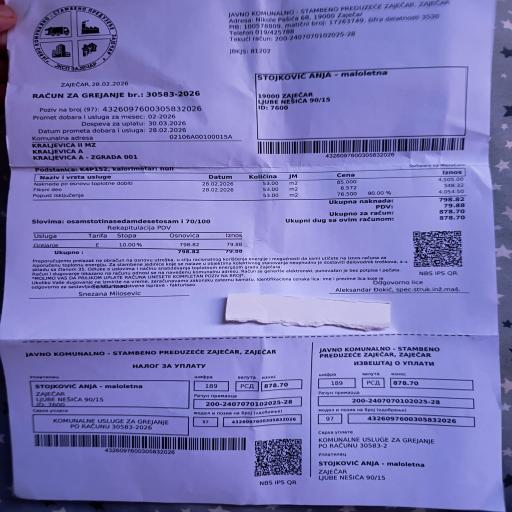racun_za_grejanje: (31, 168, 484, 220)
